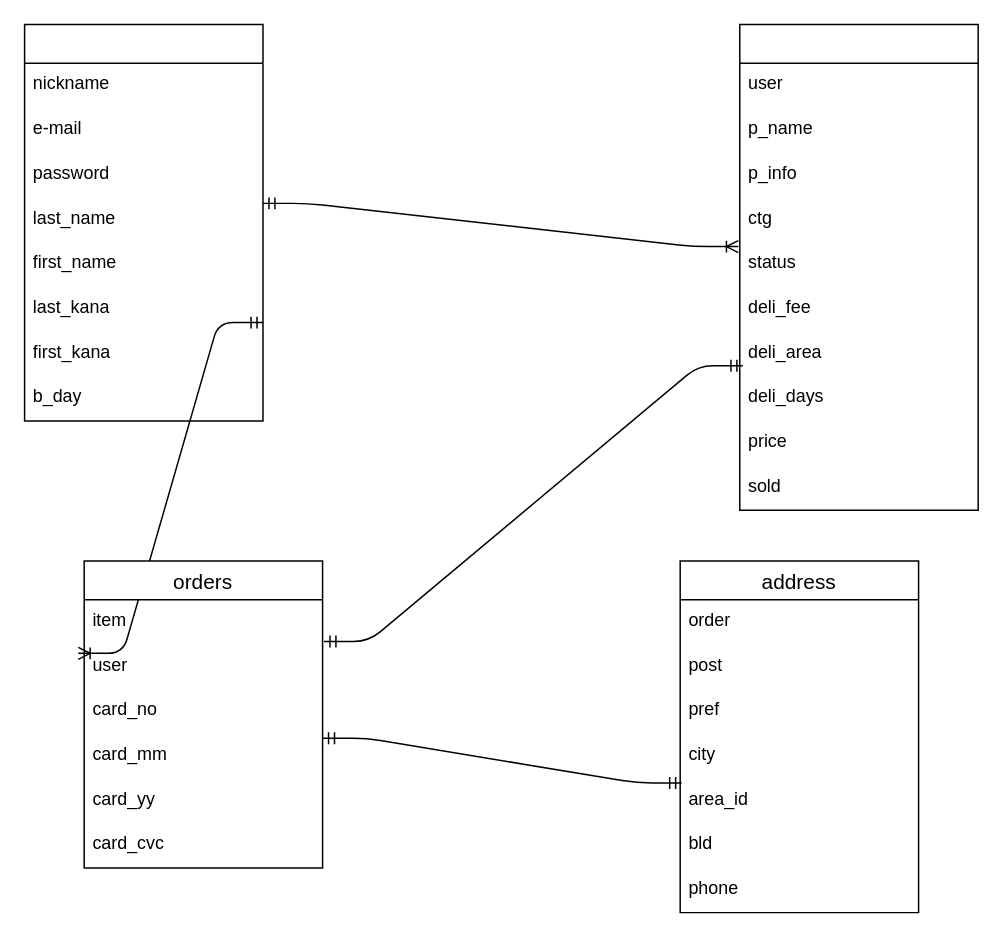
Some shapes in this 1003 by 937 pixel diagram are drawn without their labels. Here are the shapes that lost their labels. From the top down, the box of each, then its label:
(23, 23, 263, 421): users
(738, 23, 978, 510): items
